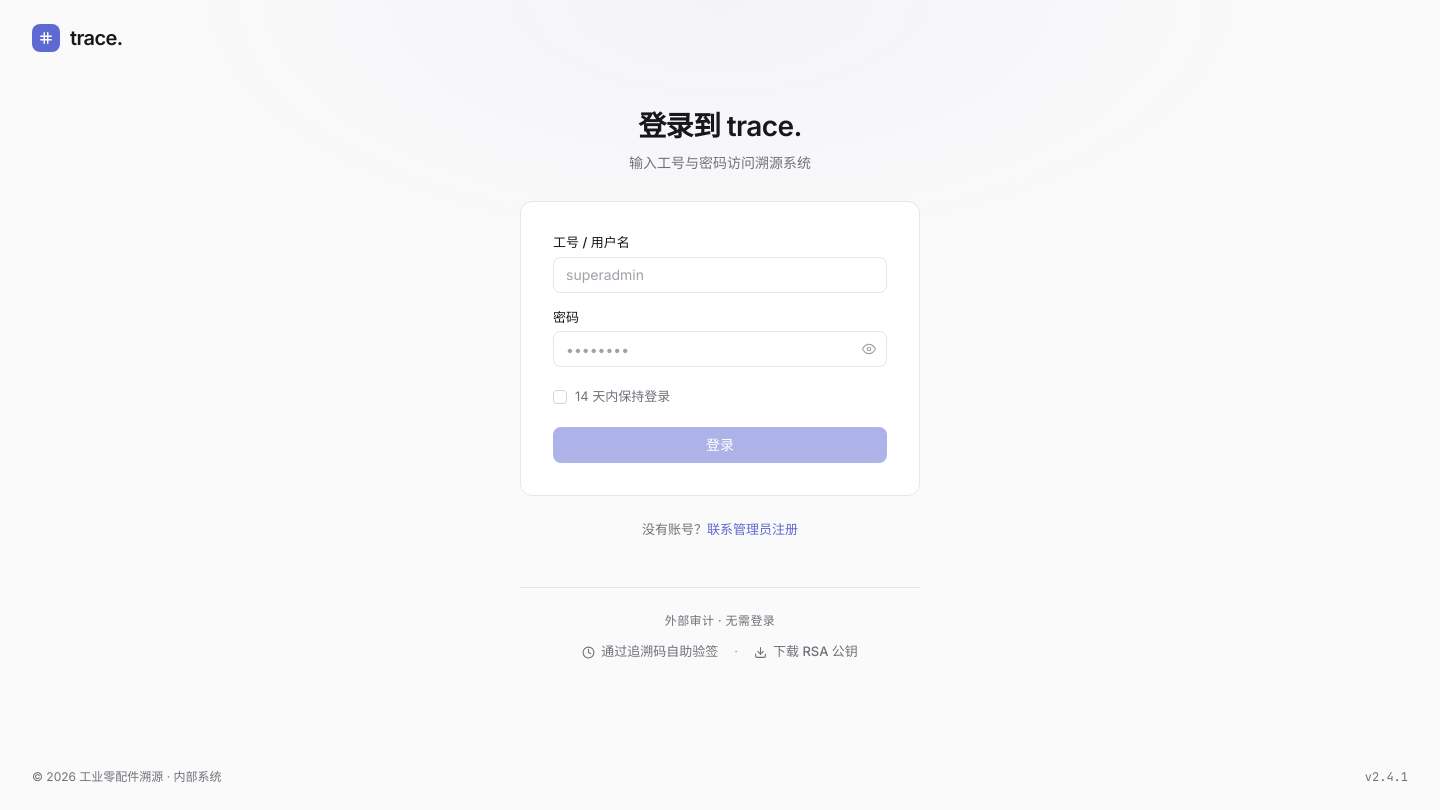
Test case: Login view › maps backend status codes to Linear-style inline error messages
In the field labelled "工号 / 用户名": (720, 274) [554,258,886,292], type "admin"
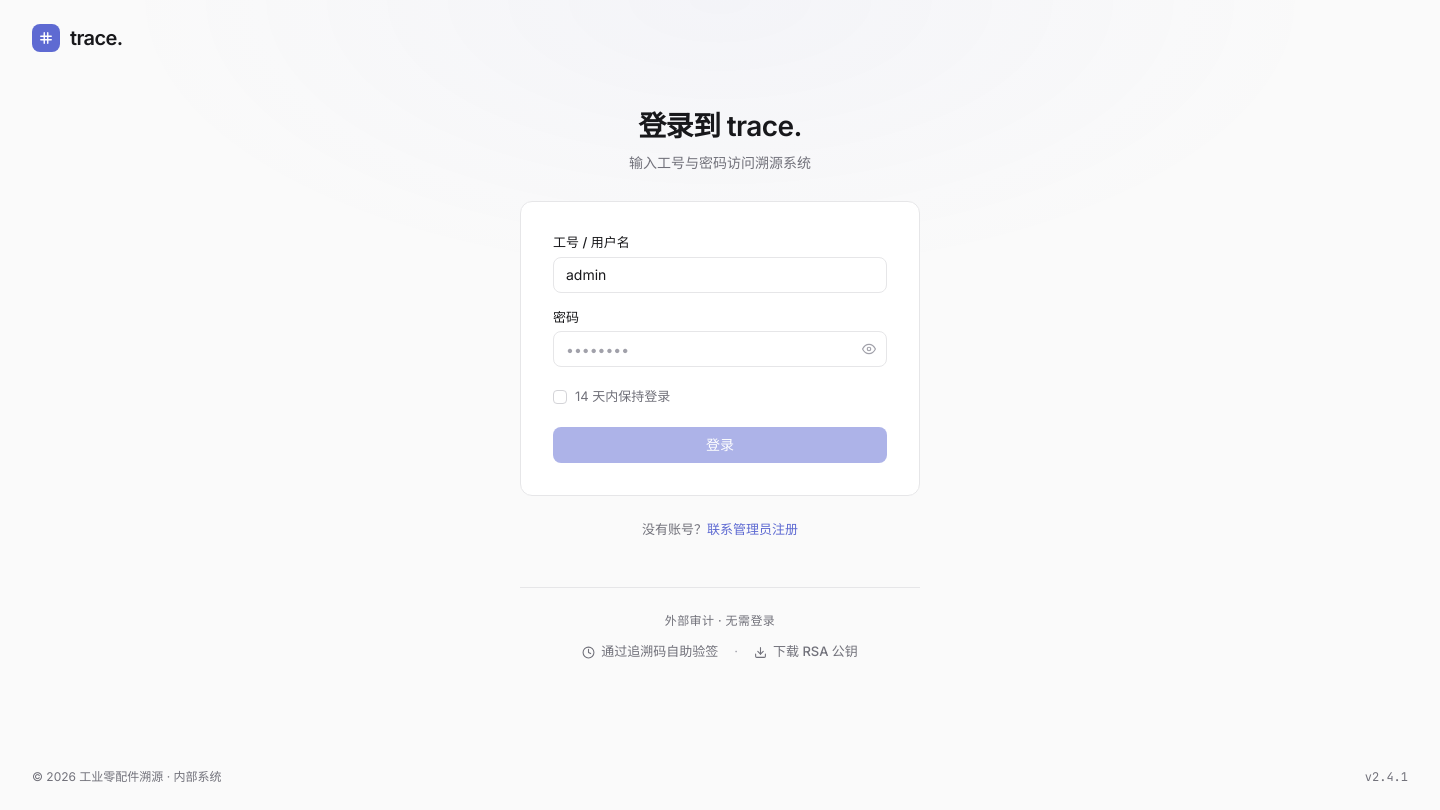
In the password field labelled "密码": (706, 349) [554,332,858,366], type "wrong"
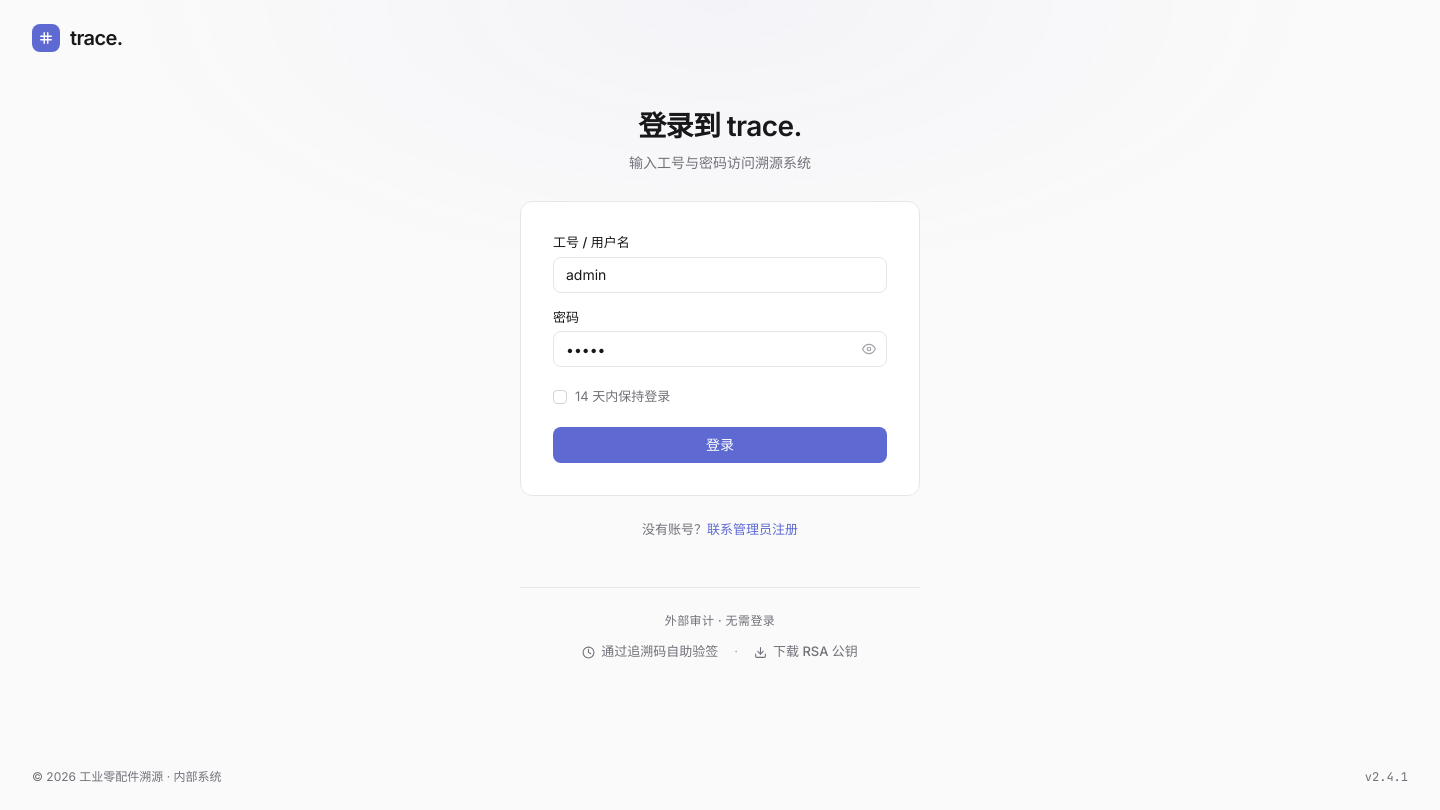
Submit the form, box [520,201,920,496]
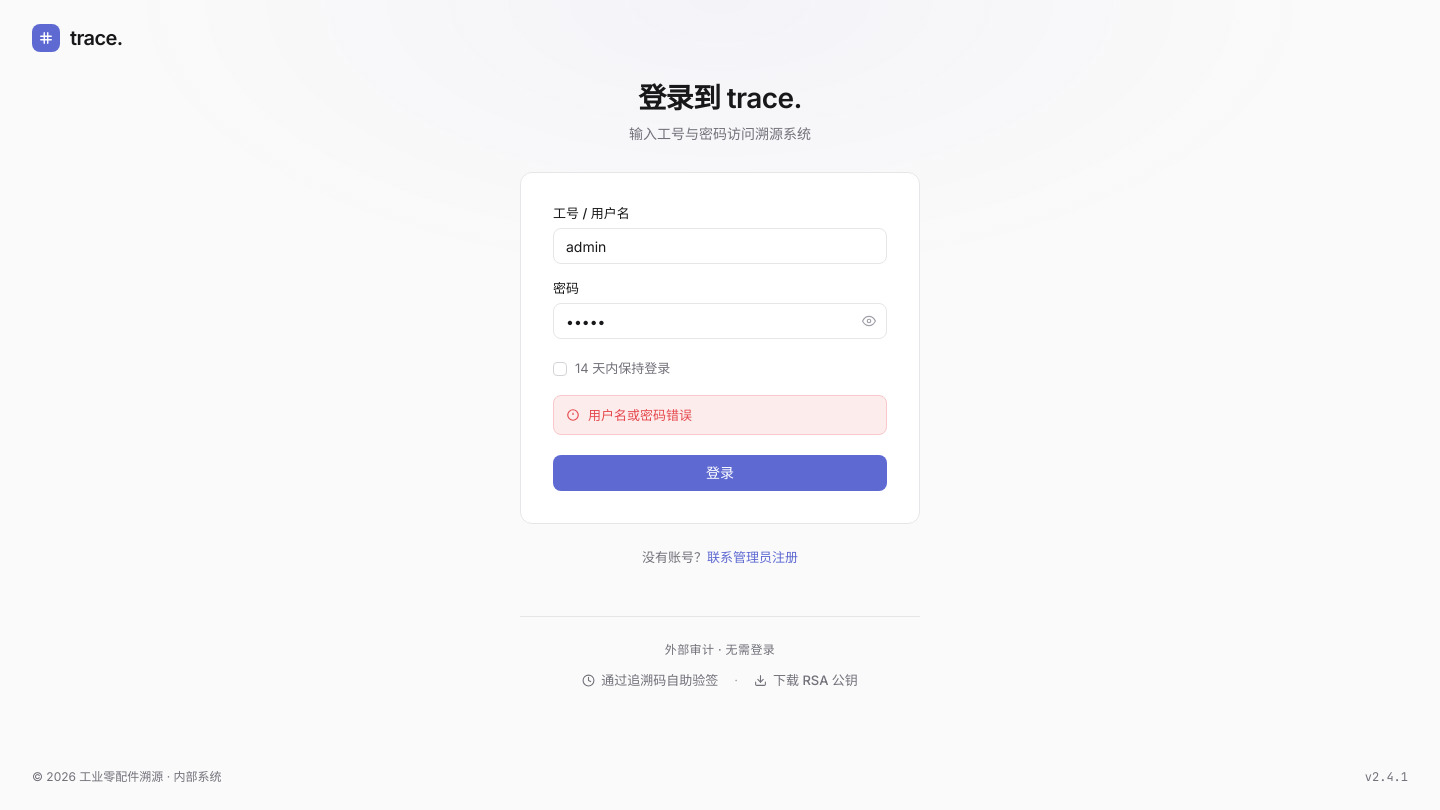
Expected: the message with test id "login-error" reads "用户名或密码错误", [588,406,692,422]
Submit the form, box [520,172,920,524]
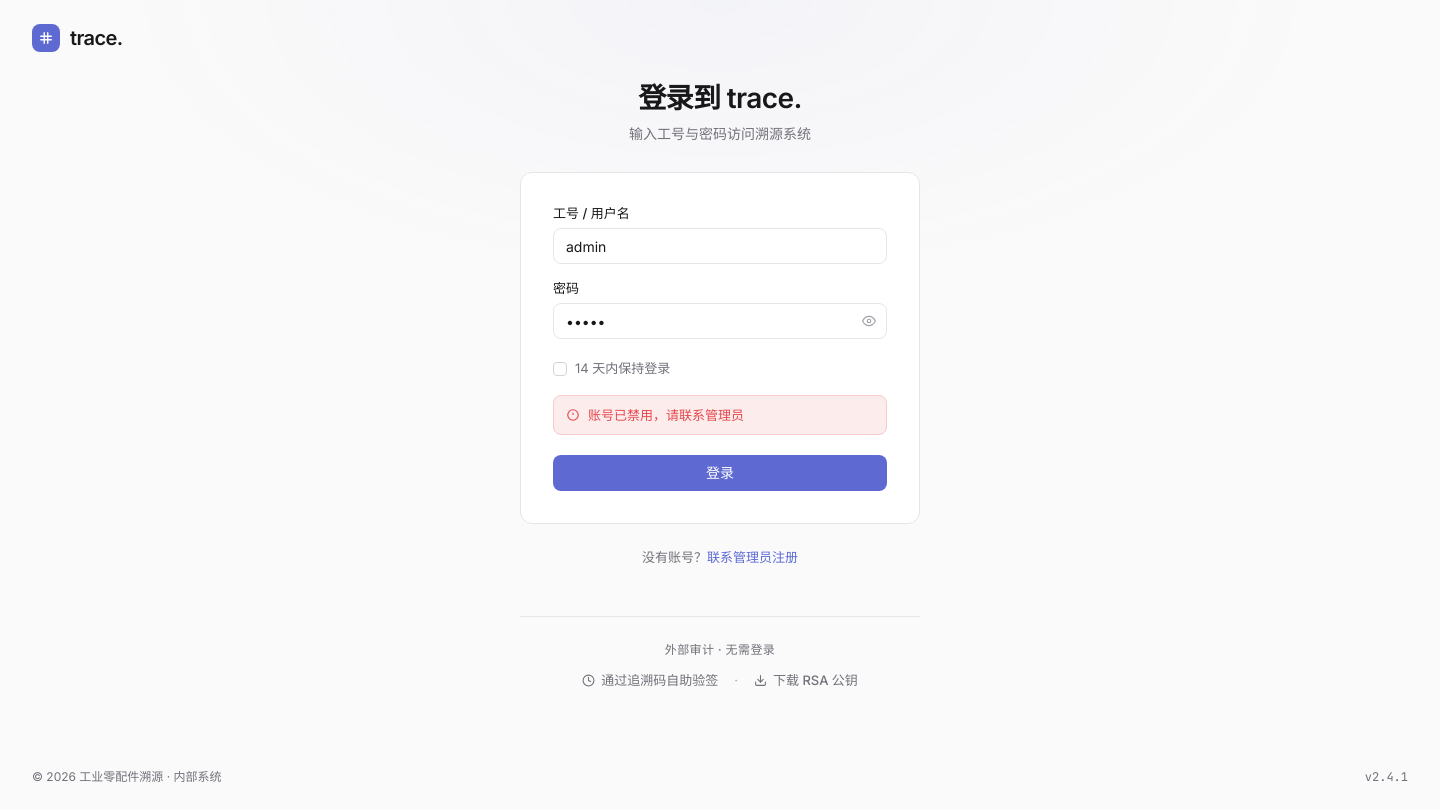
Expected: the message with test id "login-error" shows "账号已禁用", [588,406,744,422]
Submit the form, box [520,172,920,524]
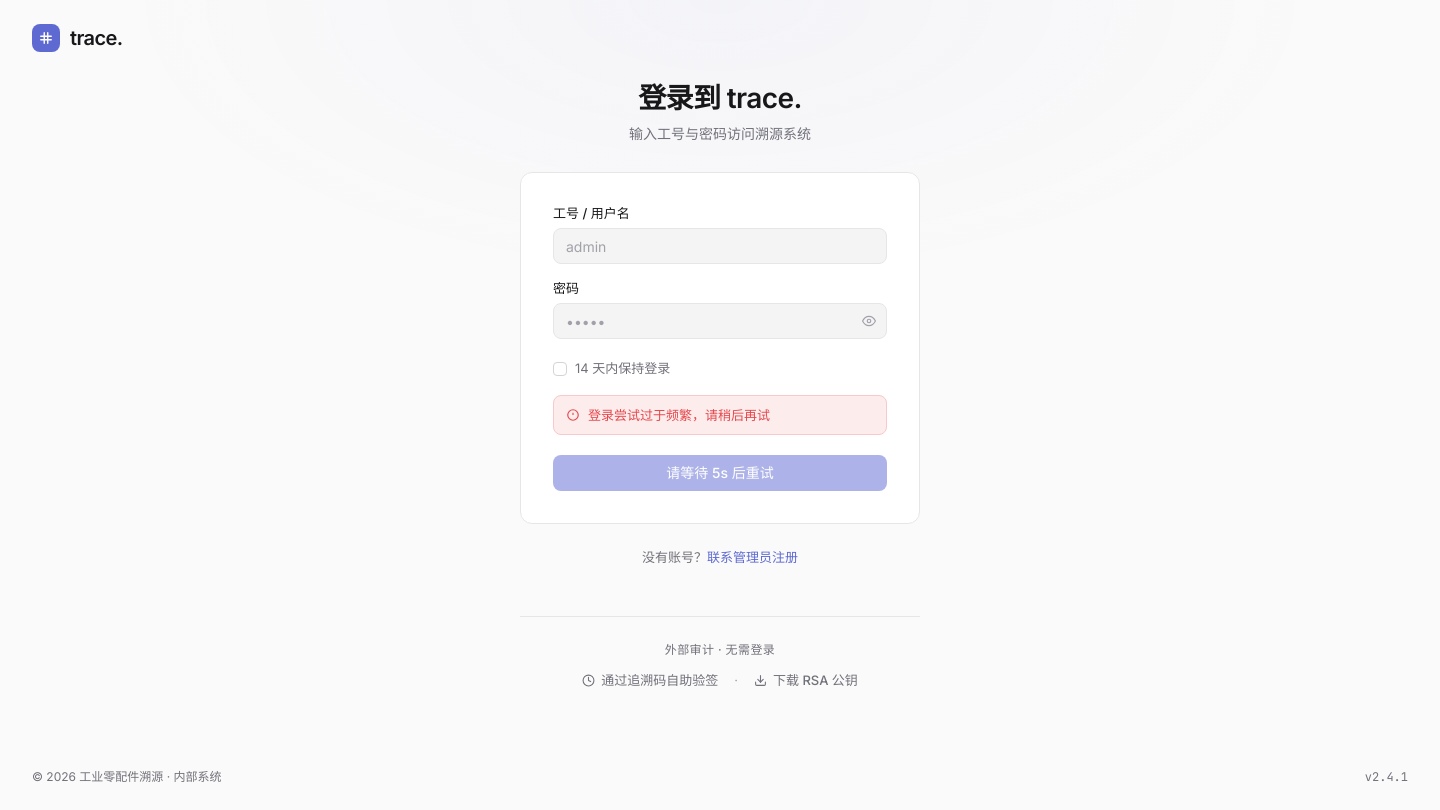
Expected: the message with test id "login-error" shows "登录尝试过于频繁", [588,406,770,422]
